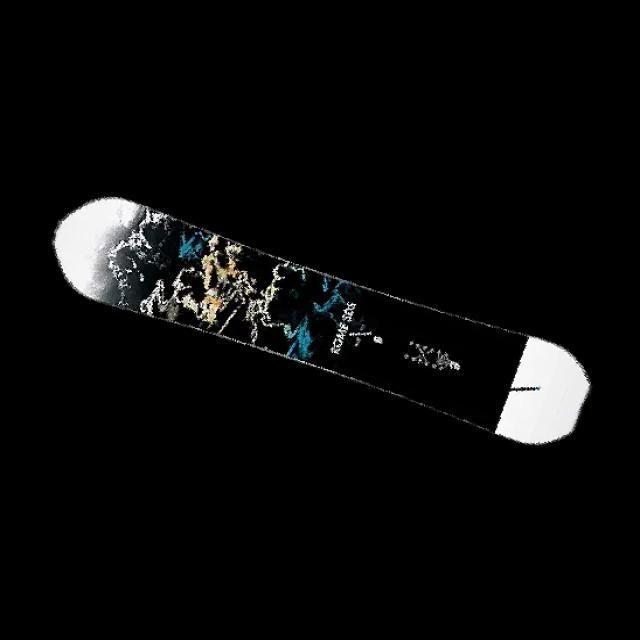Snowboard: (51, 194, 591, 447)
